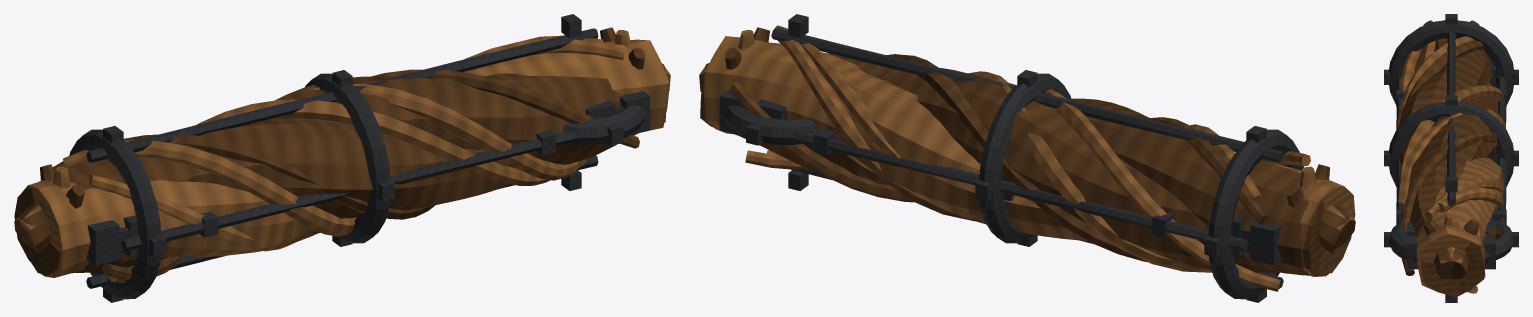
The model's file is rootforged-iron-banded-worldroot-beam-4m.glb.
3 views of the same model, side by side, from view 1: azimuth 30°, elevation 25°; view 2: azimuth 150°, elevation 25°; view 3: azimuth 270°, elevation 25° (orthographic). The views are drawn at different scales.
Parts seen in each view (by area): view 1: braided-root-1, braided-root-0, braided-root-2, surface-root-vein-0, iron-collar-0, forged-longitudinal-strap-1, bark-ridge-3, surface-root-vein-1, forged-longitudinal-strap-2, iron-collar-1, bark-ridge-2, bark-ridge-1 (+8 smaller); view 2: braided-root-1, braided-root-2, braided-root-0, forged-longitudinal-strap-1, iron-collar-0, bark-ridge-3, forged-longitudinal-strap-0, iron-collar-1, bark-ridge-0, surface-root-vein-0, bark-ridge-2, surface-root-vein-1 (+7 smaller); view 3: braided-root-2, braided-root-1, braided-root-0, iron-collar-0, iron-collar-1, bark-ridge-2, surface-root-vein-0, bark-ridge-3, forged-longitudinal-strap-1, iron-collar-2, bark-ridge-1, surface-root-vein-1 (+20 smaller).
Part boxes in pixels (bbox=[...]): braided-root-1: bbox=[21, 39, 669, 277]; braided-root-0: bbox=[14, 117, 516, 275]; braided-root-2: bbox=[27, 73, 665, 274]; surface-root-vein-0: bbox=[63, 35, 603, 236]; iron-collar-0: bbox=[69, 129, 161, 299]; forged-longitudinal-strap-1: bbox=[86, 28, 598, 162]; bark-ridge-3: bbox=[196, 99, 550, 185]; surface-root-vein-1: bbox=[108, 83, 586, 282]; forged-longitudinal-strap-2: bbox=[121, 131, 577, 251]; iron-collar-1: bbox=[305, 73, 390, 243]; bark-ridge-2: bbox=[102, 69, 639, 279]; bark-ridge-1: bbox=[89, 39, 624, 251]; braided-root-1: bbox=[704, 36, 1355, 276]; braided-root-2: bbox=[825, 53, 1350, 273]; braided-root-0: bbox=[700, 68, 1328, 276]; forged-longitudinal-strap-1: bbox=[771, 27, 1283, 162]; iron-collar-0: bbox=[1208, 129, 1303, 299]; bark-ridge-3: bbox=[745, 89, 1280, 291]; forged-longitudinal-strap-0: bbox=[792, 131, 1248, 251]; iron-collar-1: bbox=[979, 73, 1071, 243]; bark-ridge-0: bbox=[730, 81, 1267, 224]; surface-root-vein-0: bbox=[778, 28, 1261, 221]; bark-ridge-2: bbox=[886, 54, 1147, 262]; surface-root-vein-1: bbox=[767, 71, 1212, 272]; braided-root-2: bbox=[1408, 82, 1499, 295]; braided-root-1: bbox=[1412, 20, 1503, 293]; braided-root-0: bbox=[1396, 38, 1492, 297]; iron-collar-0: bbox=[1388, 20, 1514, 104]; iron-collar-1: bbox=[1388, 101, 1514, 186]; bark-ridge-2: bbox=[1400, 131, 1497, 275]; surface-root-vein-0: bbox=[1397, 36, 1504, 212]; bark-ridge-3: bbox=[1398, 85, 1503, 293]; forged-longitudinal-strap-1: bbox=[1447, 31, 1455, 205]; iron-collar-2: bbox=[1389, 217, 1513, 263]; bark-ridge-1: bbox=[1400, 22, 1504, 219]; surface-root-vein-1: bbox=[1398, 109, 1505, 204].
Size of the model in its own units: 4 by 1 by 1.
Materials: 3 (3 with a texture image).
